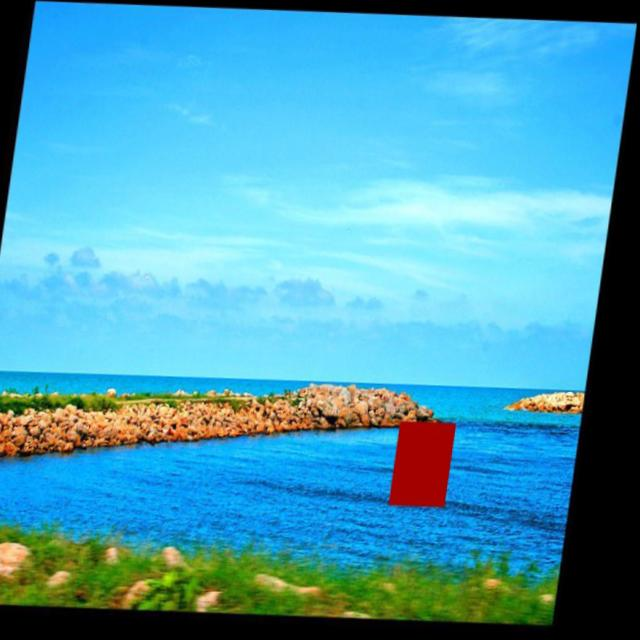RedSquare: (390, 412, 470, 520)
